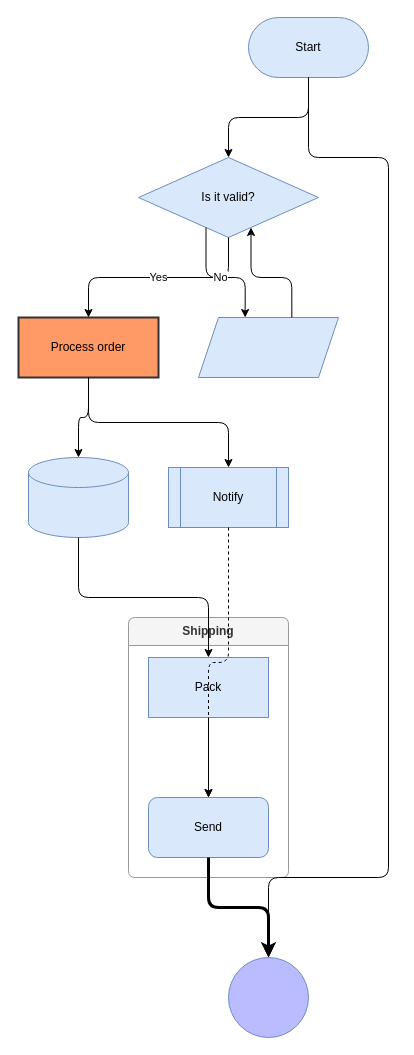
This 414x1055 diagram has some shape labels left out. Here are the shapes that lost their labels. From the top down, the centre of each, then its label:
At (x=268, y=347): "Ask for fix".
At (x=78, y=497): "Database".
At (x=268, y=997): "Done".
